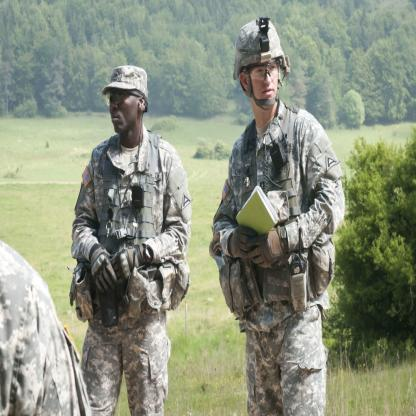Helmet: (237, 18, 290, 119)
